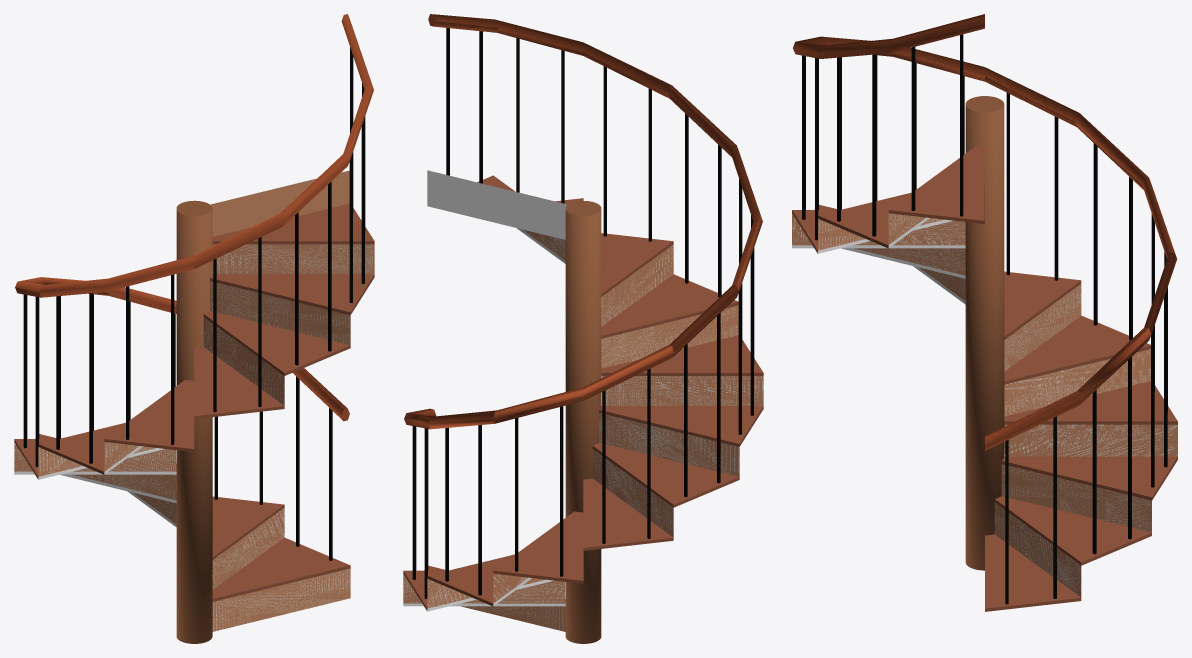
The model's file is stairs_spiral.obj.
The picture shows the model from 3 angles, left to right: view 1: azimuth 30°, elevation 25°; view 2: azimuth 150°, elevation 25°; view 3: azimuth 270°, elevation 25°; orthographic projection. The views are drawn at different scales.
Visible parts, largest first — view 1: 28_28, 48_48, Cylinder, 1_1.001, 54_54, Cube.013_Cube.015, Cube.014_Cube.016, Cube.009_Cube.012, Cube.017_Cube.019, Cube.000, Cube.018_Cube.020, Cube.021_Cube.023 (+7 smaller); view 2: 28_28, 48_48, Cylinder, 1_1.001, 46_46, Cube.001_Cube.002, Cube.005_Cube.006, Cube.004_Cube.005, Cube.018_Cube.020, Cube.008_Cube.009, Cube.009_Cube.012, Cube.017_Cube.019 (+13 smaller); view 3: 28_28, 48_48, Cylinder, 1_1.001, Cube.021_Cube.023, Cube.008_Cube.009, Cube.011_Cube.013, Cube.023_Cube.025, Cube.002_Cube.003, Cube.022_Cube.024, Cube.000, Cube.009_Cube.012 (+8 smaller).
Part boxes in pixels (<box>): 28_28: <box>14,203,374,601</box>; 48_48: <box>14,244,374,631</box>; Cylinder: <box>176,200,212,643</box>; 1_1.001: <box>15,14,373,421</box>; 54_54: <box>210,170,349,236</box>; Cube.013_Cube.015: <box>89,293,92,463</box>; Cube.014_Cube.016: <box>171,274,174,444</box>; Cube.009_Cube.012: <box>35,297,38,467</box>; Cube.017_Cube.019: <box>258,237,261,407</box>; Cube.000: <box>296,376,299,546</box>; Cube.018_Cube.020: <box>328,182,331,351</box>; Cube.021_Cube.023: <box>361,117,364,283</box>; 28_28: <box>403,175,763,611</box>; 48_48: <box>403,229,763,631</box>; Cylinder: <box>565,201,601,643</box>; 1_1.001: <box>404,14,762,429</box>; 46_46: <box>427,170,567,236</box>; Cube.001_Cube.002: <box>424,428,427,598</box>; Cube.005_Cube.006: <box>560,406,563,576</box>; Cube.004_Cube.005: <box>478,425,481,595</box>; Cube.018_Cube.020: <box>603,66,606,236</box>; Cube.008_Cube.009: <box>647,368,650,538</box>; Cube.009_Cube.012: <box>717,313,720,483</box>; Cube.017_Cube.019: <box>685,113,688,283</box>; 28_28: <box>792,146,1177,611</box>; 48_48: <box>792,213,1177,597</box>; Cylinder: <box>965,96,1004,570</box>; 1_1.001: <box>793,14,1177,450</box>; Cube.021_Cube.023: <box>872,54,876,236</box>; Cube.008_Cube.009: <box>1093,143,1097,325</box>; Cube.011_Cube.013: <box>1054,116,1058,280</box>; Cube.023_Cube.025: <box>911,47,915,210</box>; Cube.002_Cube.003: <box>1092,390,1096,554</box>; Cube.022_Cube.024: <box>960,34,963,216</box>; Cube.000: <box>1053,416,1056,598</box>; Cube.009_Cube.012: <box>1006,93,1009,274</box>.
Size of the model in its own units: 200 by 358 by 200.
